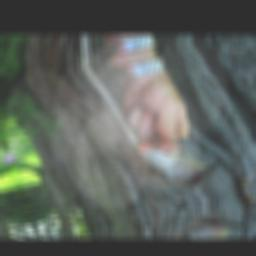Cuckoo: (75, 47, 231, 206)
